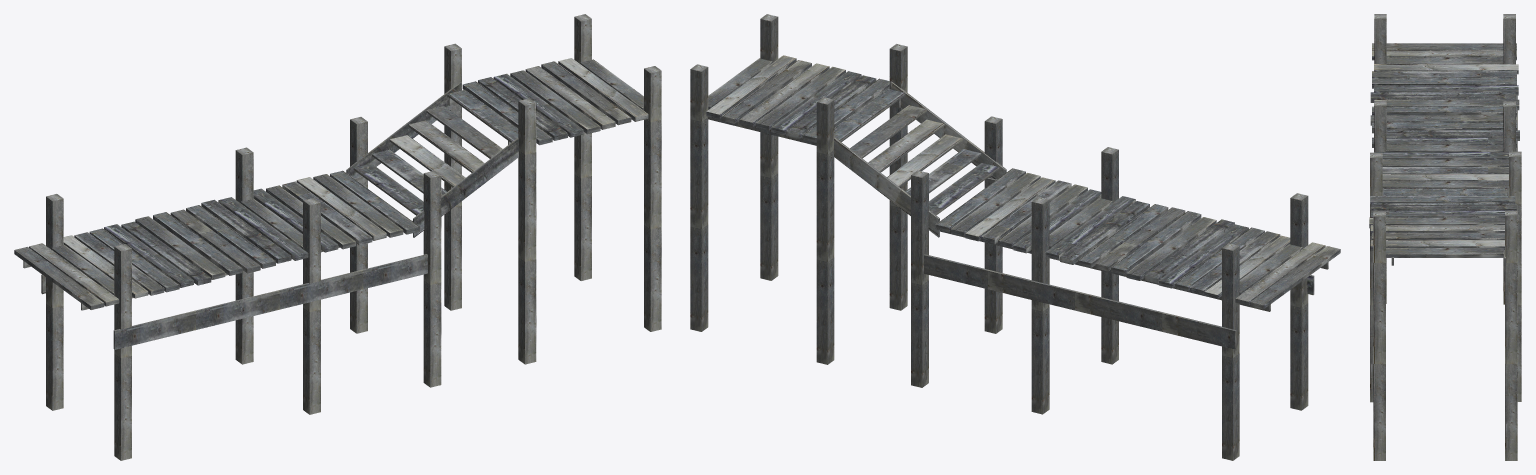
File: dock.glb
The picture shows the model from 3 angles, left to right: view 1: azimuth 30°, elevation 25°; view 2: azimuth 150°, elevation 25°; view 3: azimuth 270°, elevation 25°; orthographic projection. The views are drawn at different scales.
Visible parts, largest first — view 1: Dock200; view 2: Dock200; view 3: Dock200.
Part boxes in pixels (left/top/right/bottom): Dock200: left=14, top=14, right=661, bottom=460; Dock200: left=690, top=14, right=1340, bottom=460; Dock200: left=1369, top=14, right=1521, bottom=460.
Size of what is drawn, in the model's own units: 13.99 by 6.04 by 3.4.
Materials: 1 (1 with a texture image).
